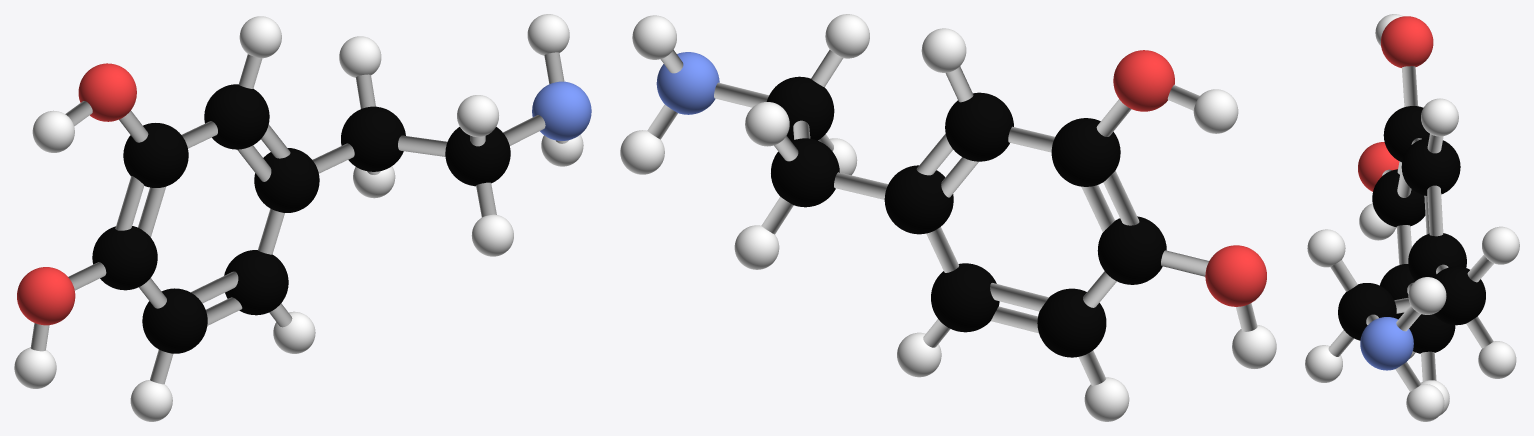
File: template.gltf
3 renders of one model, left to right at view 1: azimuth 30°, elevation 25°; view 2: azimuth 150°, elevation 25°; view 3: azimuth 270°, elevation 25°, orthographic. The views are drawn at different scales.
Parts seen in each view (by area): view 1: Dopamine.mol; view 2: Dopamine.mol; view 3: Dopamine.mol.
Part boxes in pixels (box(x1,y1,x2,y2)): Dopamine.mol: box(14, 14, 591, 421); Dopamine.mol: box(620, 14, 1276, 421); Dopamine.mol: box(1305, 14, 1519, 421).
Bounding box in the file's own units: 8.85 × 5.17 × 3.1.
